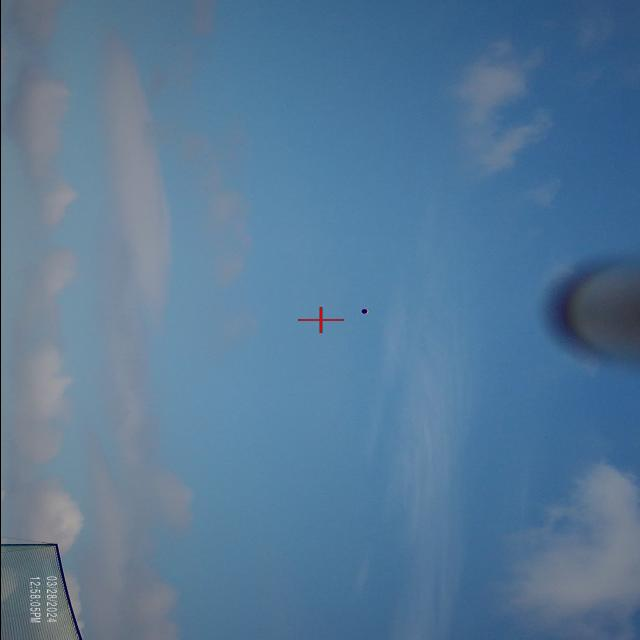entire: (349, 303, 380, 318)
